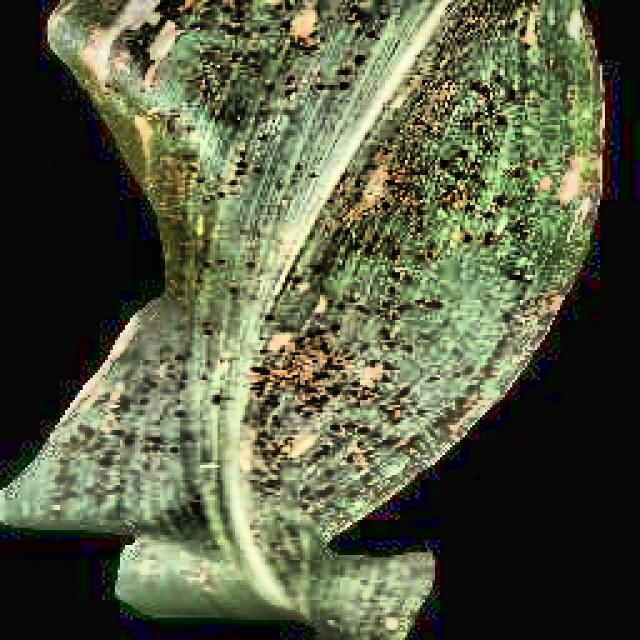common_rust: (257, 3, 640, 640)
